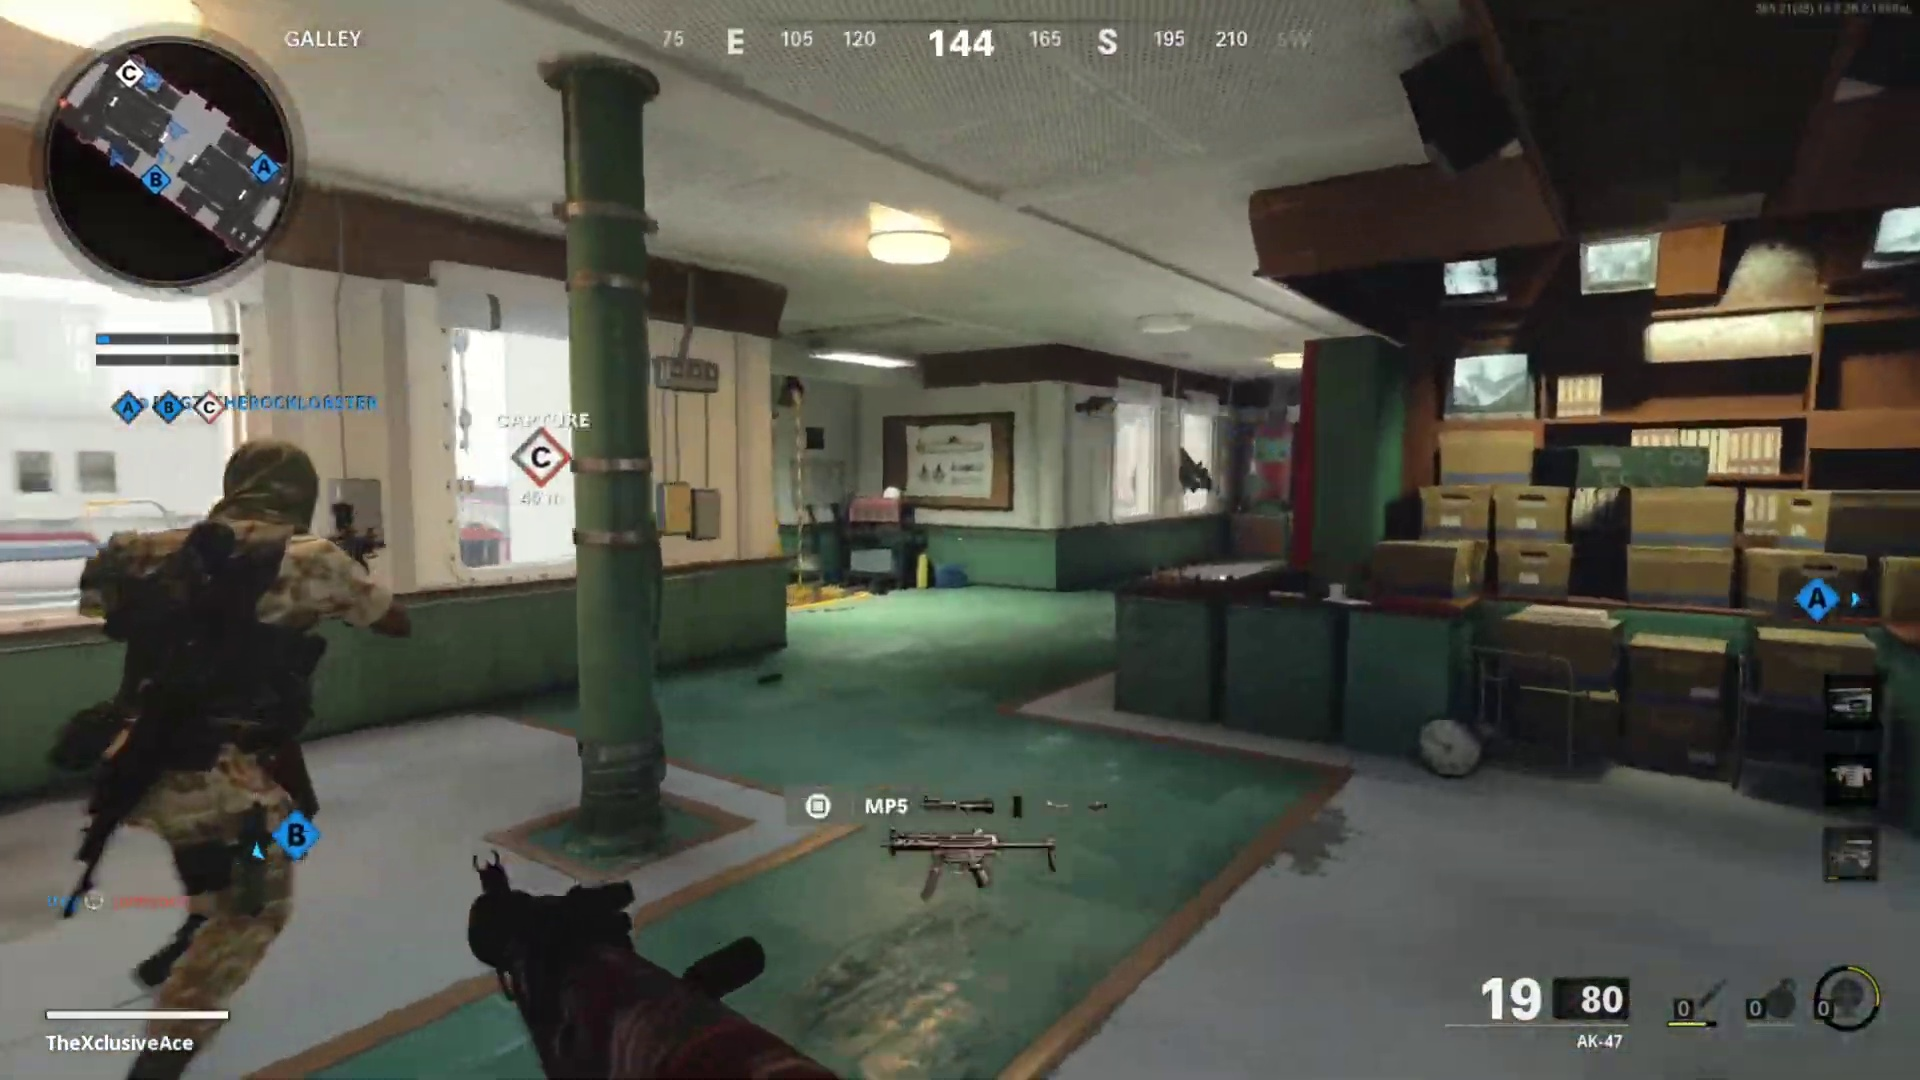head: (217, 440, 318, 548)
person: (47, 422, 394, 1001)
